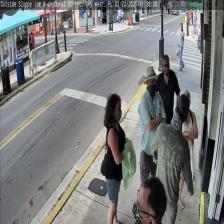person: (150, 93, 194, 224), (137, 67, 167, 207), (103, 92, 131, 224), (168, 89, 198, 208), (155, 54, 182, 166), (132, 176, 166, 224)
